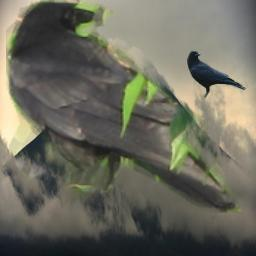Crow: (6, 0, 241, 213), (187, 49, 247, 98)
